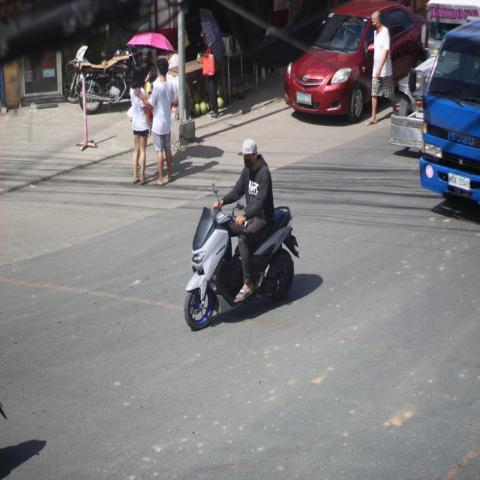car: (284, 0, 428, 124)
jeepney: (383, 0, 445, 155)
motorcycle: (183, 136, 301, 332)
truck: (420, 0, 480, 215)
